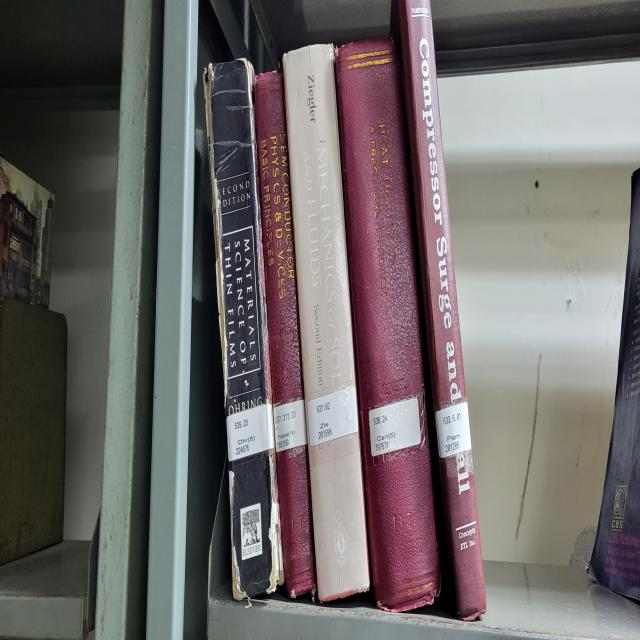Book: (335, 41, 440, 611), (399, 0, 486, 620), (284, 46, 370, 601), (202, 60, 284, 601), (255, 73, 316, 598)
Label: (369, 398, 421, 457), (308, 387, 359, 446), (226, 403, 274, 460), (435, 400, 471, 457), (274, 400, 306, 452)
